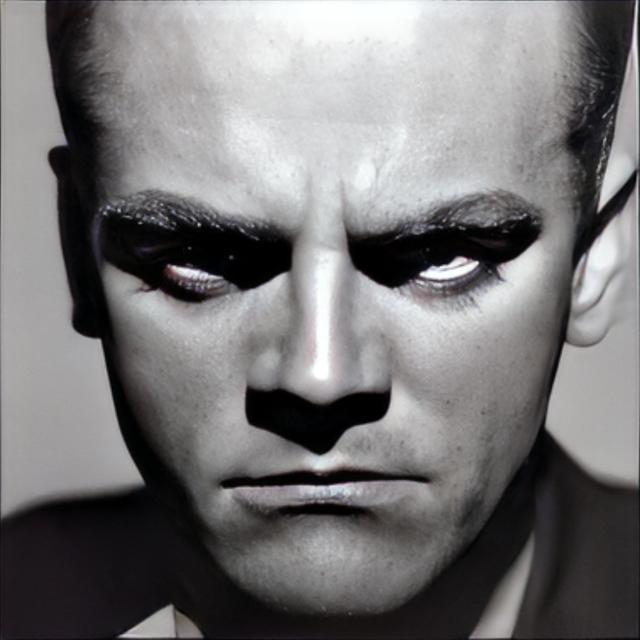anger: (94, 19, 567, 623)
